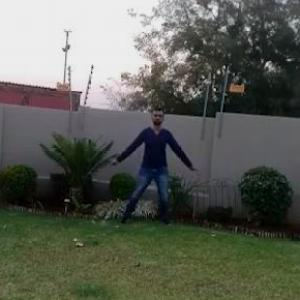land: (102, 102, 196, 228)
